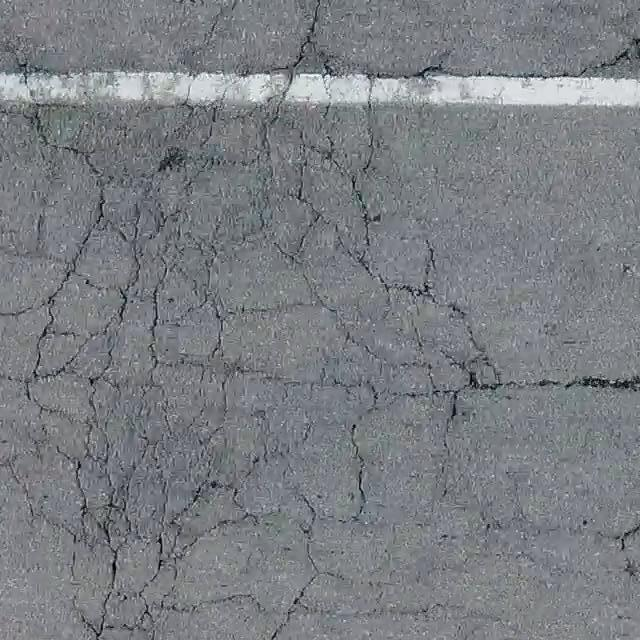GRIETA: (382, 37, 639, 80), (514, 374, 639, 392)
PIEL DE COCODRILO: (0, 0, 516, 639)
